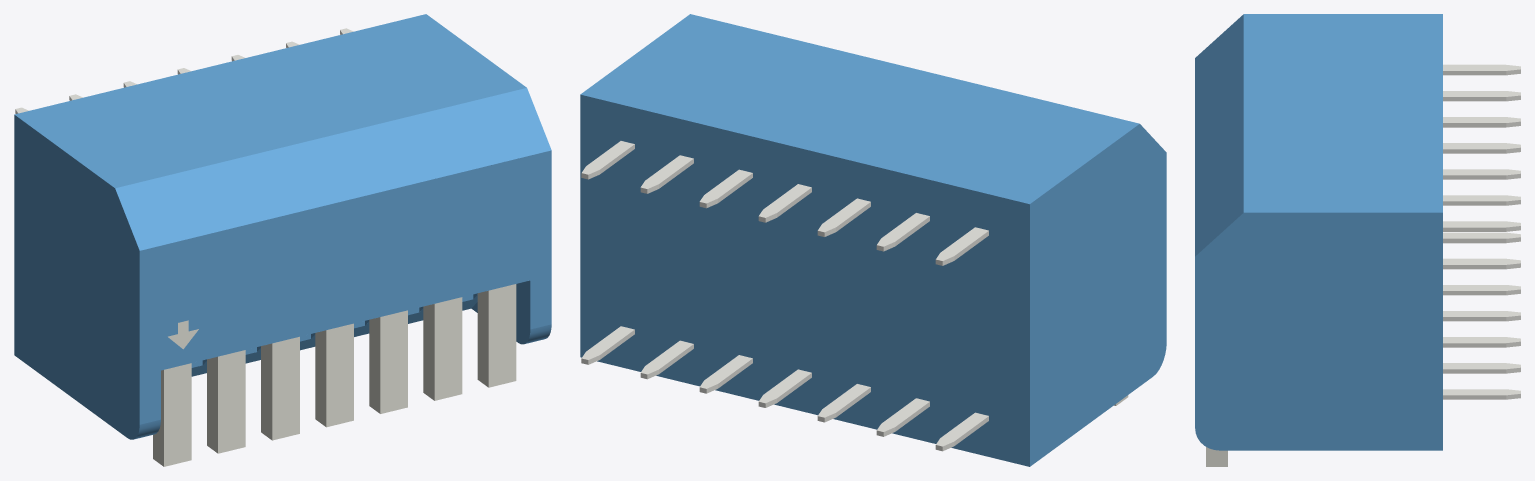
The model's file is SW_DIP_SPSTx07_Piano_10.8x19.34mm_W7.62mm_P2.54mm.glb.
3 views of the same model, side by side, from view 1: azimuth 30°, elevation 25°; view 2: azimuth 150°, elevation 25°; view 3: azimuth 270°, elevation 25° (orthographic). The views are drawn at different scales.
Visible parts, largest first — view 1: Shape_IndexedFaceSet.001, Shape_IndexedFaceSet.005, Shape_IndexedFaceSet.008, Shape_IndexedFaceSet.003, Shape_IndexedFaceSet.073, Shape_IndexedFaceSet.083, Shape_IndexedFaceSet.076, Shape_IndexedFaceSet.103, Shape_IndexedFaceSet.086, Shape_IndexedFaceSet.093, Shape_IndexedFaceSet.096, Shape_IndexedFaceSet.094 (+7 smaller); view 2: Shape_IndexedFaceSet.006, Shape_IndexedFaceSet.005, Shape_IndexedFaceSet.008, Shape_IndexedFaceSet.023, Shape_IndexedFaceSet.027, Shape_IndexedFaceSet.052, Shape_IndexedFaceSet.048, Shape_IndexedFaceSet.065, Shape_IndexedFaceSet.031, Shape_IndexedFaceSet.037, Shape_IndexedFaceSet.041, Shape_IndexedFaceSet.045 (+3 smaller); view 3: Shape_IndexedFaceSet, Shape_IndexedFaceSet.005, Shape_IndexedFaceSet.003, Shape_IndexedFaceSet.015, Shape_IndexedFaceSet.023, Shape_IndexedFaceSet.052, Shape_IndexedFaceSet.065, Shape_IndexedFaceSet.019, Shape_IndexedFaceSet.045, Shape_IndexedFaceSet.027, Shape_IndexedFaceSet.048, Shape_IndexedFaceSet.057 (+7 smaller).
Boxes of the visible parts, x1=… form: Shape_IndexedFaceSet.001: x1=139, y1=150, x2=551, y2=424; Shape_IndexedFaceSet.005: x1=14, y1=14, x2=526, y2=188; Shape_IndexedFaceSet.008: x1=14, y1=115, x2=139, y2=439; Shape_IndexedFaceSet.003: x1=115, y1=88, x2=551, y2=250; Shape_IndexedFaceSet.073: x1=488, y1=284, x2=516, y2=387; Shape_IndexedFaceSet.083: x1=434, y1=297, x2=462, y2=400; Shape_IndexedFaceSet.076: x1=164, y1=363, x2=191, y2=466; Shape_IndexedFaceSet.103: x1=326, y1=323, x2=353, y2=427; Shape_IndexedFaceSet.086: x1=218, y1=350, x2=245, y2=453; Shape_IndexedFaceSet.093: x1=380, y1=310, x2=407, y2=413; Shape_IndexedFaceSet.096: x1=272, y1=336, x2=299, y2=440; Shape_IndexedFaceSet.094: x1=261, y1=343, x2=272, y2=440; Shape_IndexedFaceSet.006: x1=580, y1=94, x2=1029, y2=466; Shape_IndexedFaceSet.005: x1=580, y1=14, x2=1139, y2=204; Shape_IndexedFaceSet.008: x1=1030, y1=124, x2=1166, y2=466; Shape_IndexedFaceSet.023: x1=640, y1=155, x2=693, y2=188; Shape_IndexedFaceSet.027: x1=759, y1=184, x2=811, y2=217; Shape_IndexedFaceSet.052: x1=581, y1=326, x2=634, y2=359; Shape_IndexedFaceSet.048: x1=700, y1=355, x2=752, y2=388; Shape_IndexedFaceSet.065: x1=936, y1=412, x2=988, y2=446; Shape_IndexedFaceSet.031: x1=818, y1=198, x2=870, y2=232; Shape_IndexedFaceSet.037: x1=818, y1=384, x2=870, y2=417; Shape_IndexedFaceSet.041: x1=759, y1=369, x2=811, y2=403; Shape_IndexedFaceSet.045: x1=640, y1=340, x2=693, y2=374; Shape_IndexedFaceSet: x1=1195, y1=212, x2=1442, y2=450; Shape_IndexedFaceSet.005: x1=1243, y1=14, x2=1442, y2=212; Shape_IndexedFaceSet.003: x1=1195, y1=14, x2=1243, y2=256; Shape_IndexedFaceSet.015: x1=1443, y1=221, x2=1520, y2=227; Shape_IndexedFaceSet.023: x1=1443, y1=195, x2=1520, y2=201; Shape_IndexedFaceSet.052: x1=1443, y1=389, x2=1520, y2=395; Shape_IndexedFaceSet.065: x1=1443, y1=232, x2=1520, y2=238; Shape_IndexedFaceSet.019: x1=1443, y1=169, x2=1520, y2=175; Shape_IndexedFaceSet.045: x1=1443, y1=363, x2=1520, y2=369; Shape_IndexedFaceSet.027: x1=1443, y1=143, x2=1520, y2=149; Shape_IndexedFaceSet.048: x1=1443, y1=337, x2=1520, y2=343; Shape_IndexedFaceSet.057: x1=1443, y1=258, x2=1520, y2=264.
Bounding box in the file's own units: 7.61 × 4.8 × 5.28.
